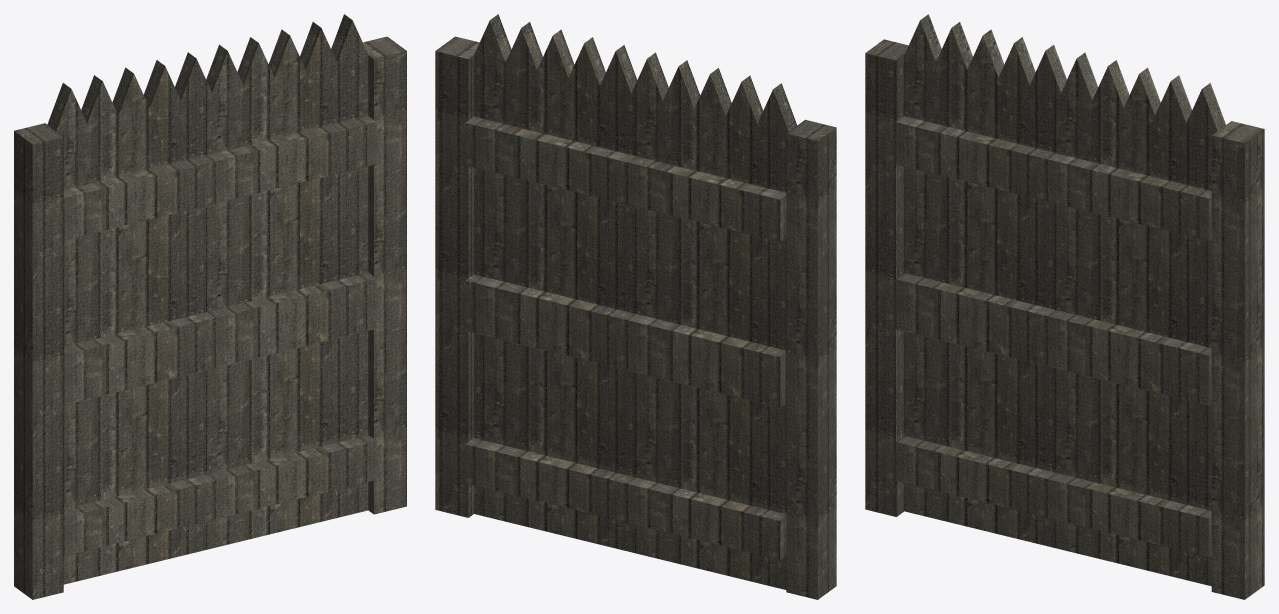
Rendered from Fence.fbx.
The picture shows the model from 3 angles, left to right: view 1: azimuth 30°, elevation 25°; view 2: azimuth 150°, elevation 25°; view 3: azimuth 330°, elevation 25°; orthographic projection.
Visible parts, largest first — view 1: Model; view 2: Model; view 3: Model.
Part boxes in pixels (left/top/right/bottom): Model: left=14, top=14, right=406, bottom=599; Model: left=435, top=14, right=836, bottom=599; Model: left=865, top=14, right=1264, bottom=599.
Bounding box in the file's own units: 299 × 374 × 34.94.
